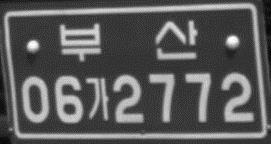0: (20, 75, 50, 125)
2: (220, 69, 256, 126), (111, 73, 146, 125)
6: (52, 74, 84, 126)
7: (180, 69, 215, 123), (146, 70, 177, 126)
가: (84, 74, 111, 123)
부산_D: (56, 18, 199, 63)
